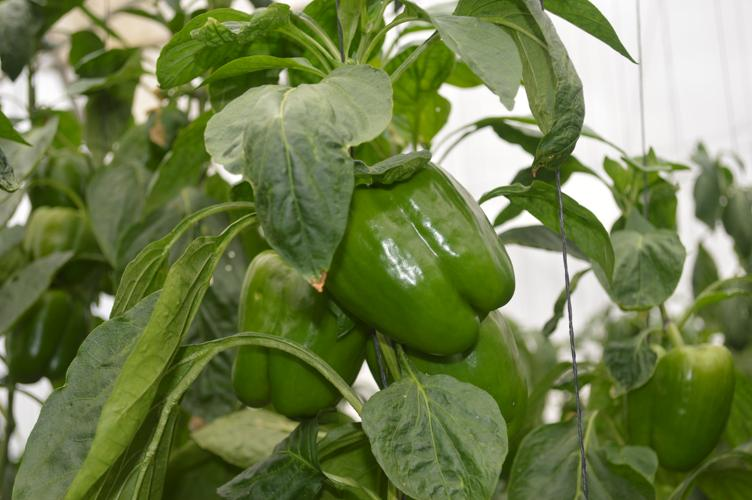BellPepper: (304, 162, 528, 363), (213, 232, 365, 420), (618, 327, 741, 473), (5, 287, 94, 388)
